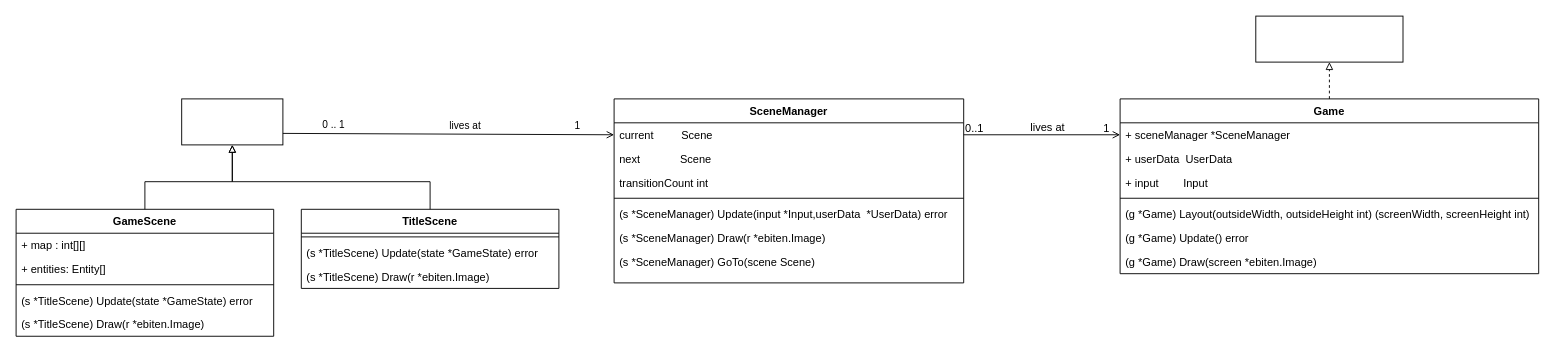
The diagram is 1555 pixels wide and 355 high, and some of its shapes have lost their labels. Here are the shapes that lost their labels. From the top down, the centre of each, then its label:
point 1329,38: «interface» ebiten.Game
point 232,121: «interface» Scene
